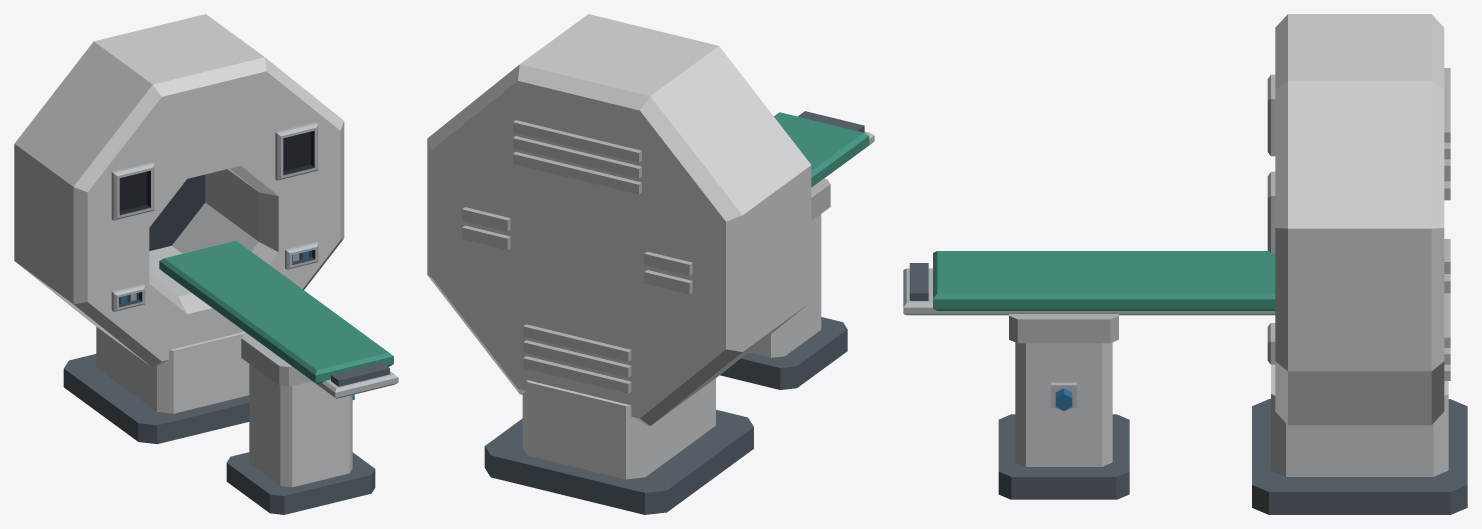
Rendered from ct-scanner-gantry-2032b8.glb.
The picture shows the model from 3 angles, left to right: view 1: azimuth 30°, elevation 25°; view 2: azimuth 150°, elevation 25°; view 3: azimuth 270°, elevation 25°; orthographic projection. The views are drawn at different scales.
Parts seen in each view (by area): view 1: gantry-body, couch-mattress, couch-tray; view 2: gantry-body, couch-mattress, couch-tray; view 3: gantry-body, couch-mattress, couch-tray.
Boxes of the visible parts, <box> form: gantry-body: <box>14,14,375,514</box>; couch-mattress: <box>159,241,393,384</box>; couch-tray: <box>162,271,398,398</box>; gantry-body: <box>427,14,847,514</box>; couch-mattress: <box>774,112,869,187</box>; couch-tray: <box>798,111,874,186</box>; gantry-body: <box>998,14,1467,514</box>; couch-mattress: <box>933,251,1275,310</box>; couch-tray: <box>903,263,1275,315</box>.
Bounding box in the file's own units: 1.8 × 2.2 × 2.67.
